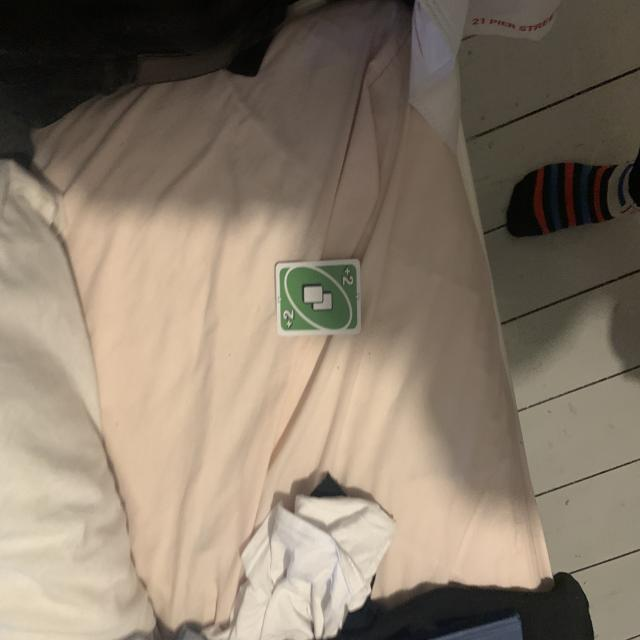lgreen-20: (281, 308, 298, 332)
